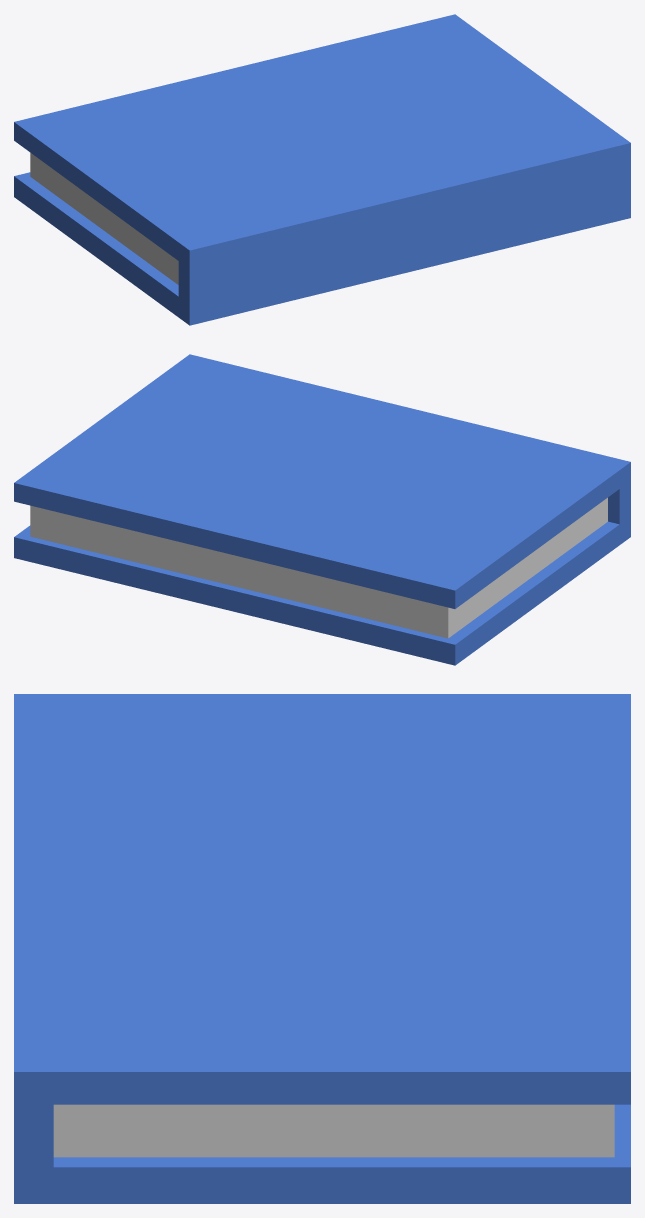
File: Book.fbx
3 renders of one model, top to bottom at view 1: azimuth 30°, elevation 25°; view 2: azimuth 150°, elevation 25°; view 3: azimuth 270°, elevation 25°, orthographic. The views are drawn at different scales.
Visible parts, largest first — view 1: Book; view 2: Book; view 3: Book.
Part boxes in pixels (x1,y1,x2,y2): Book: (14, 14, 630, 325); Book: (14, 354, 630, 665); Book: (14, 694, 630, 1203).
Bounding box in the file's own units: 3192 × 519 × 2203.
